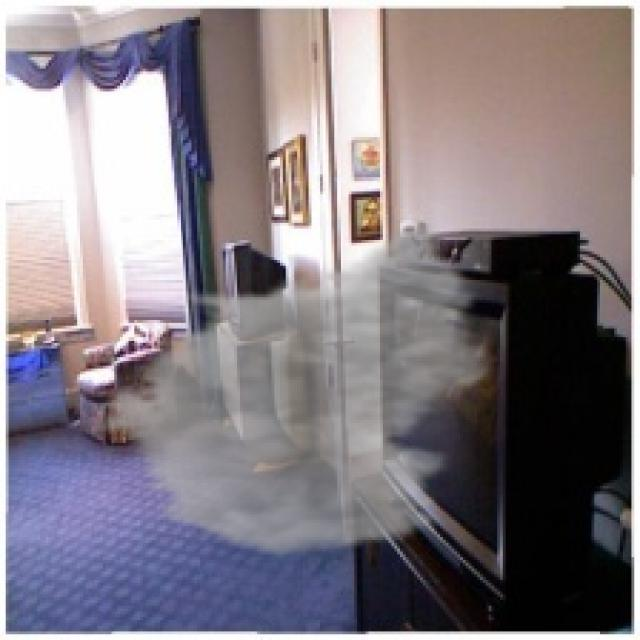smoke: (88, 214, 506, 560)
